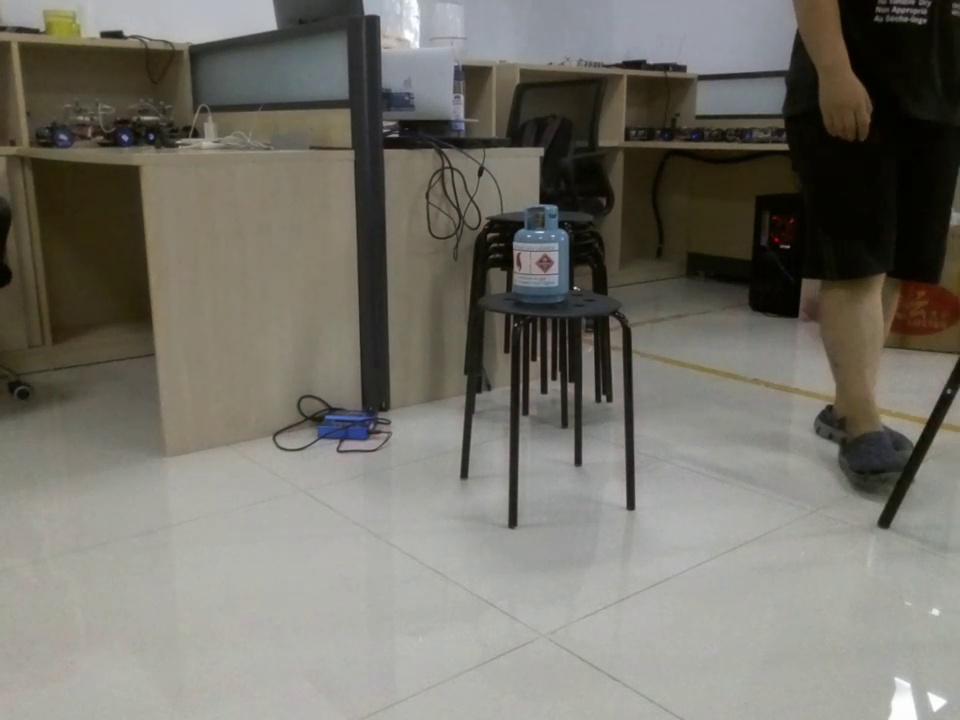gas tank: (510, 203, 579, 313)
